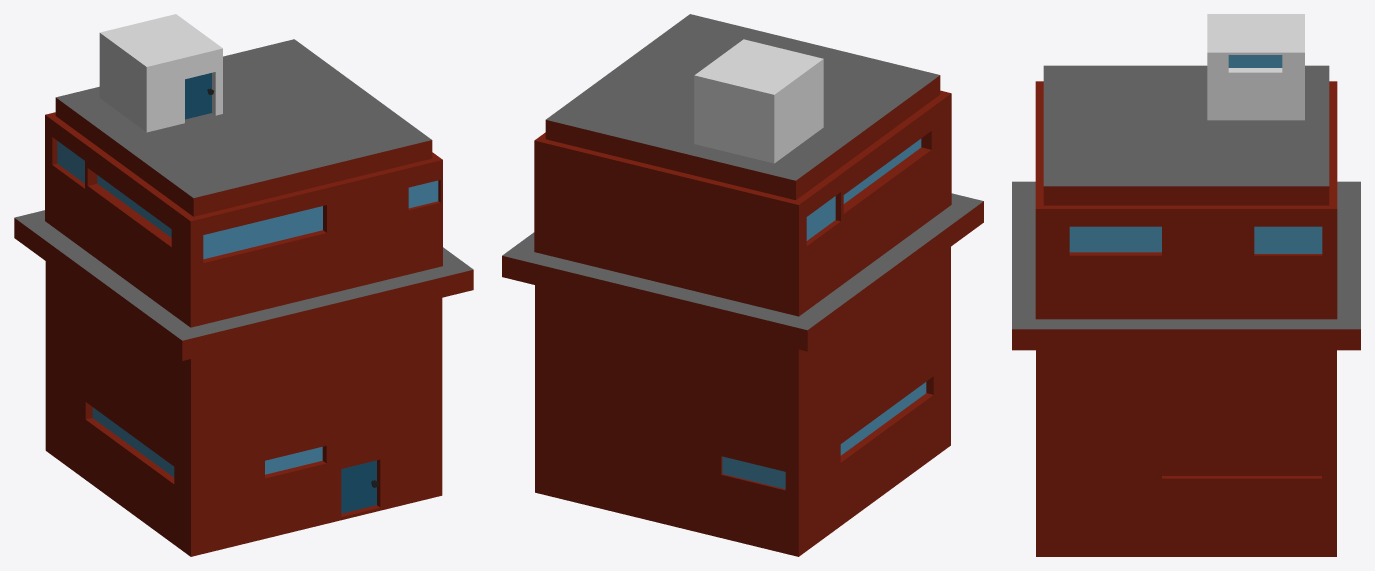
File: supply_depot.glb
3 renders of one model, left to right at view 1: azimuth 30°, elevation 25°; view 2: azimuth 150°, elevation 25°; view 3: azimuth 270°, elevation 25°, orthographic. The views are drawn at different scales.
Parts seen in each view (by area): view 1: Storage; view 2: Storage; view 3: Storage.
Part boxes in pixels (bbox=[...]): Storage: bbox=[14, 14, 473, 556]; Storage: bbox=[502, 14, 983, 556]; Storage: bbox=[1012, 14, 1360, 556].
Size of the model in its own units: 15.94 by 21.95 by 15.94.
